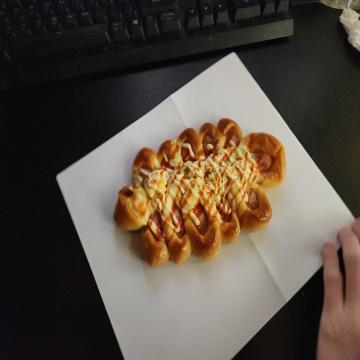pizza_bread: (114, 117, 287, 268)
